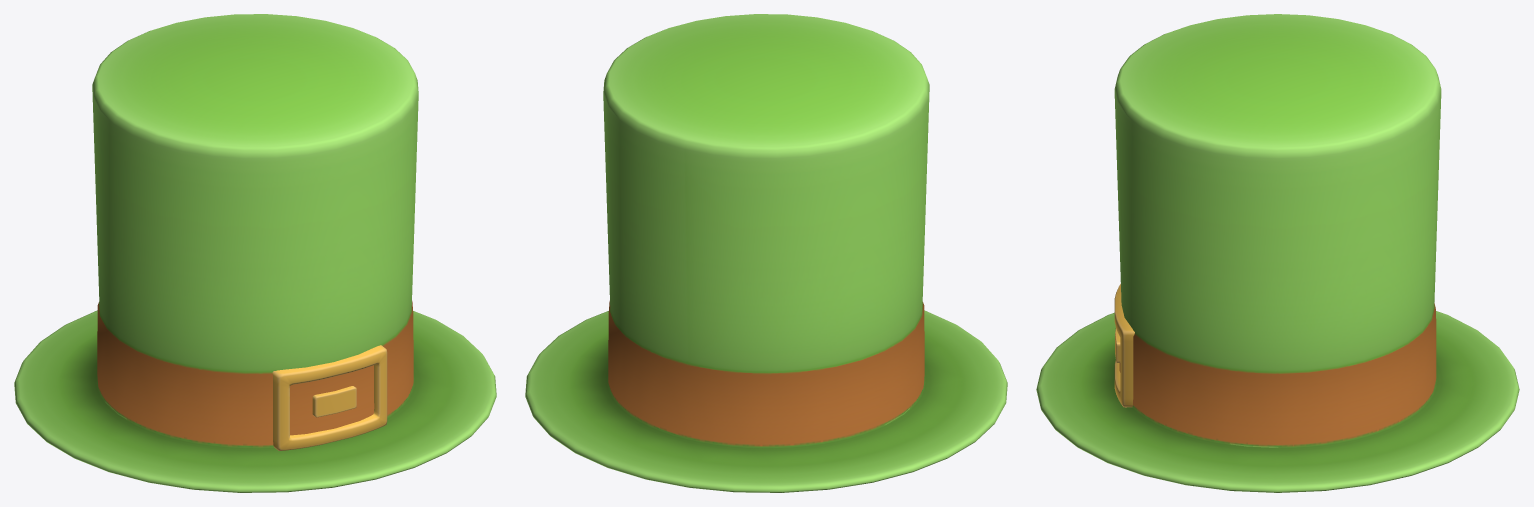
Rendered from Stpatrick Hat.fbx.
The picture shows the model from 3 angles, left to right: view 1: azimuth 30°, elevation 25°; view 2: azimuth 150°, elevation 25°; view 3: azimuth 270°, elevation 25°; orthographic projection.
Visible parts, largest first — view 1: Stpatrickhat; view 2: Stpatrickhat; view 3: Stpatrickhat.
Part boxes in pixels (x1=…): Stpatrickhat: x1=14, y1=14, x2=496, y2=492; Stpatrickhat: x1=525, y1=14, x2=1007, y2=492; Stpatrickhat: x1=1036, y1=14, x2=1519, y2=492.
Bounding box in the file's own units: 49.78 × 35.57 × 49.78.
